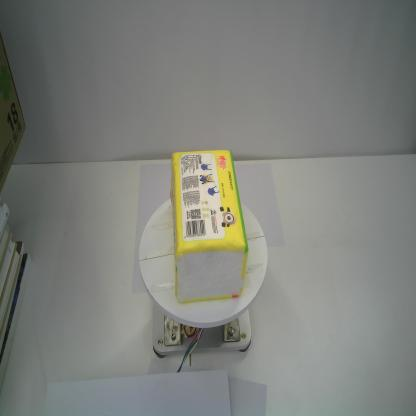Tissue: (170, 148, 249, 306)
